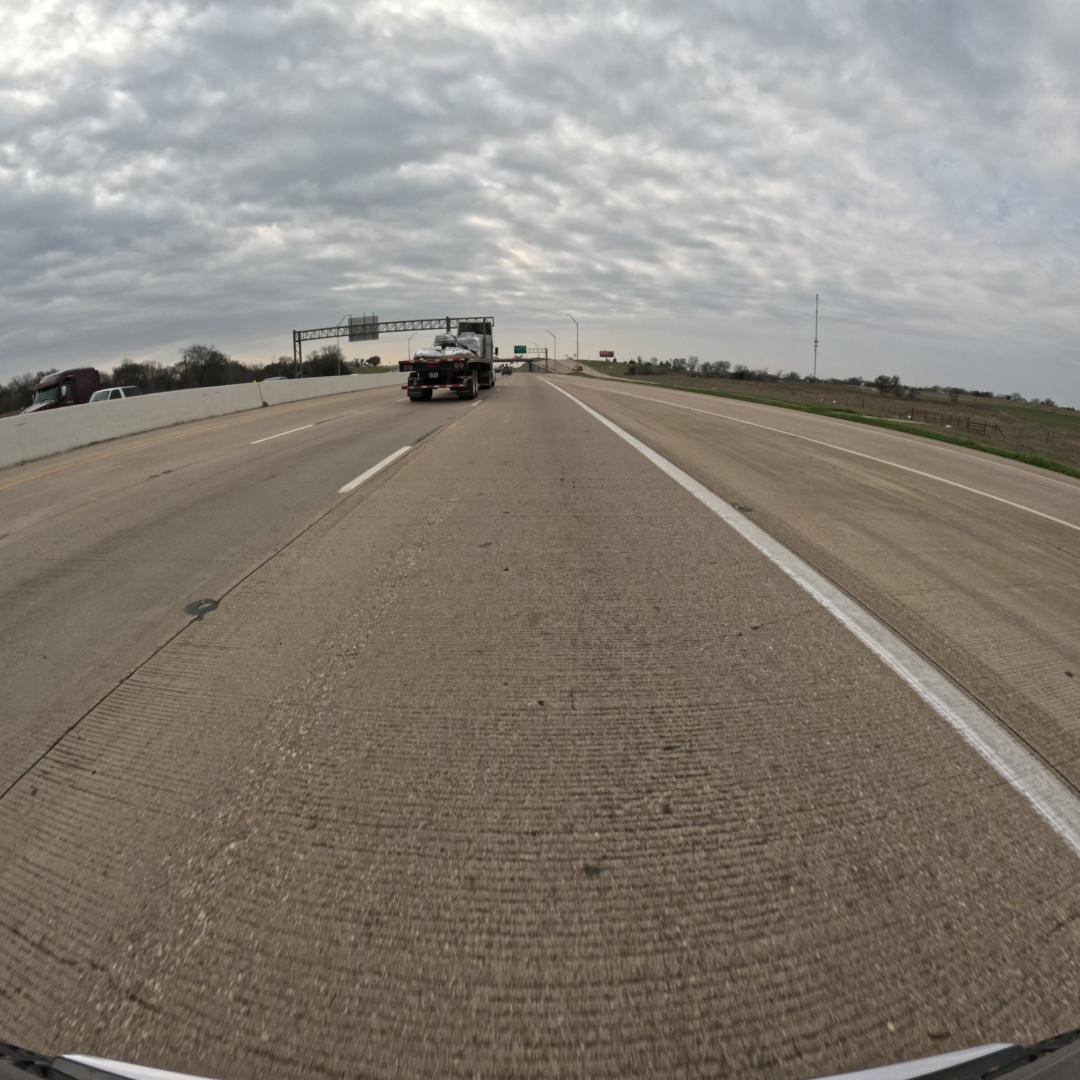lane0: (0, 375, 1080, 1076)
lane1: (0, 398, 473, 796)
